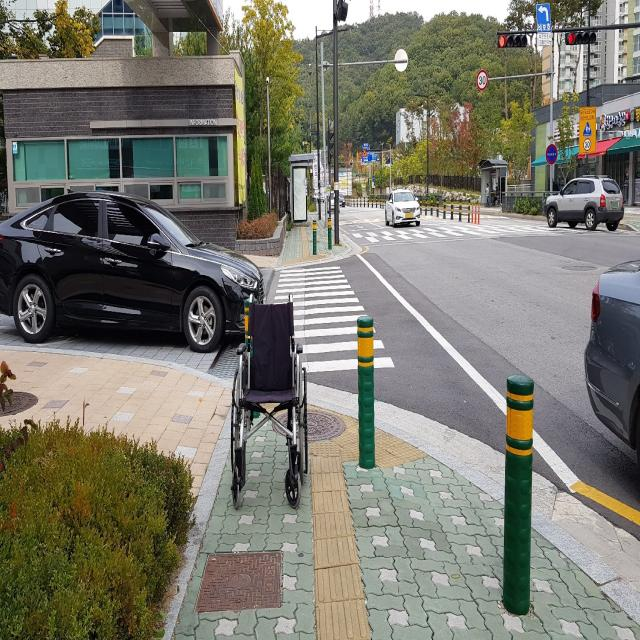횡단보도: (273, 264, 396, 374), (349, 228, 545, 241)
